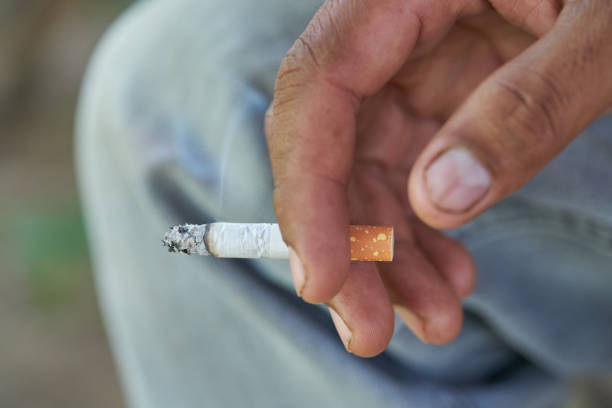cigarette: (157, 217, 394, 268)
